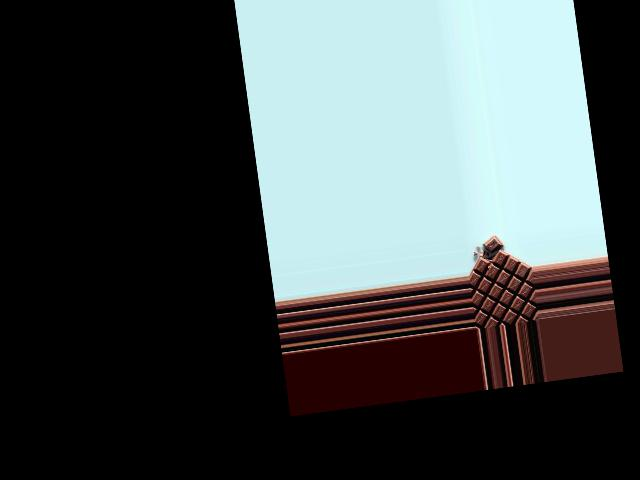chocolate: (466, 240, 536, 329)
